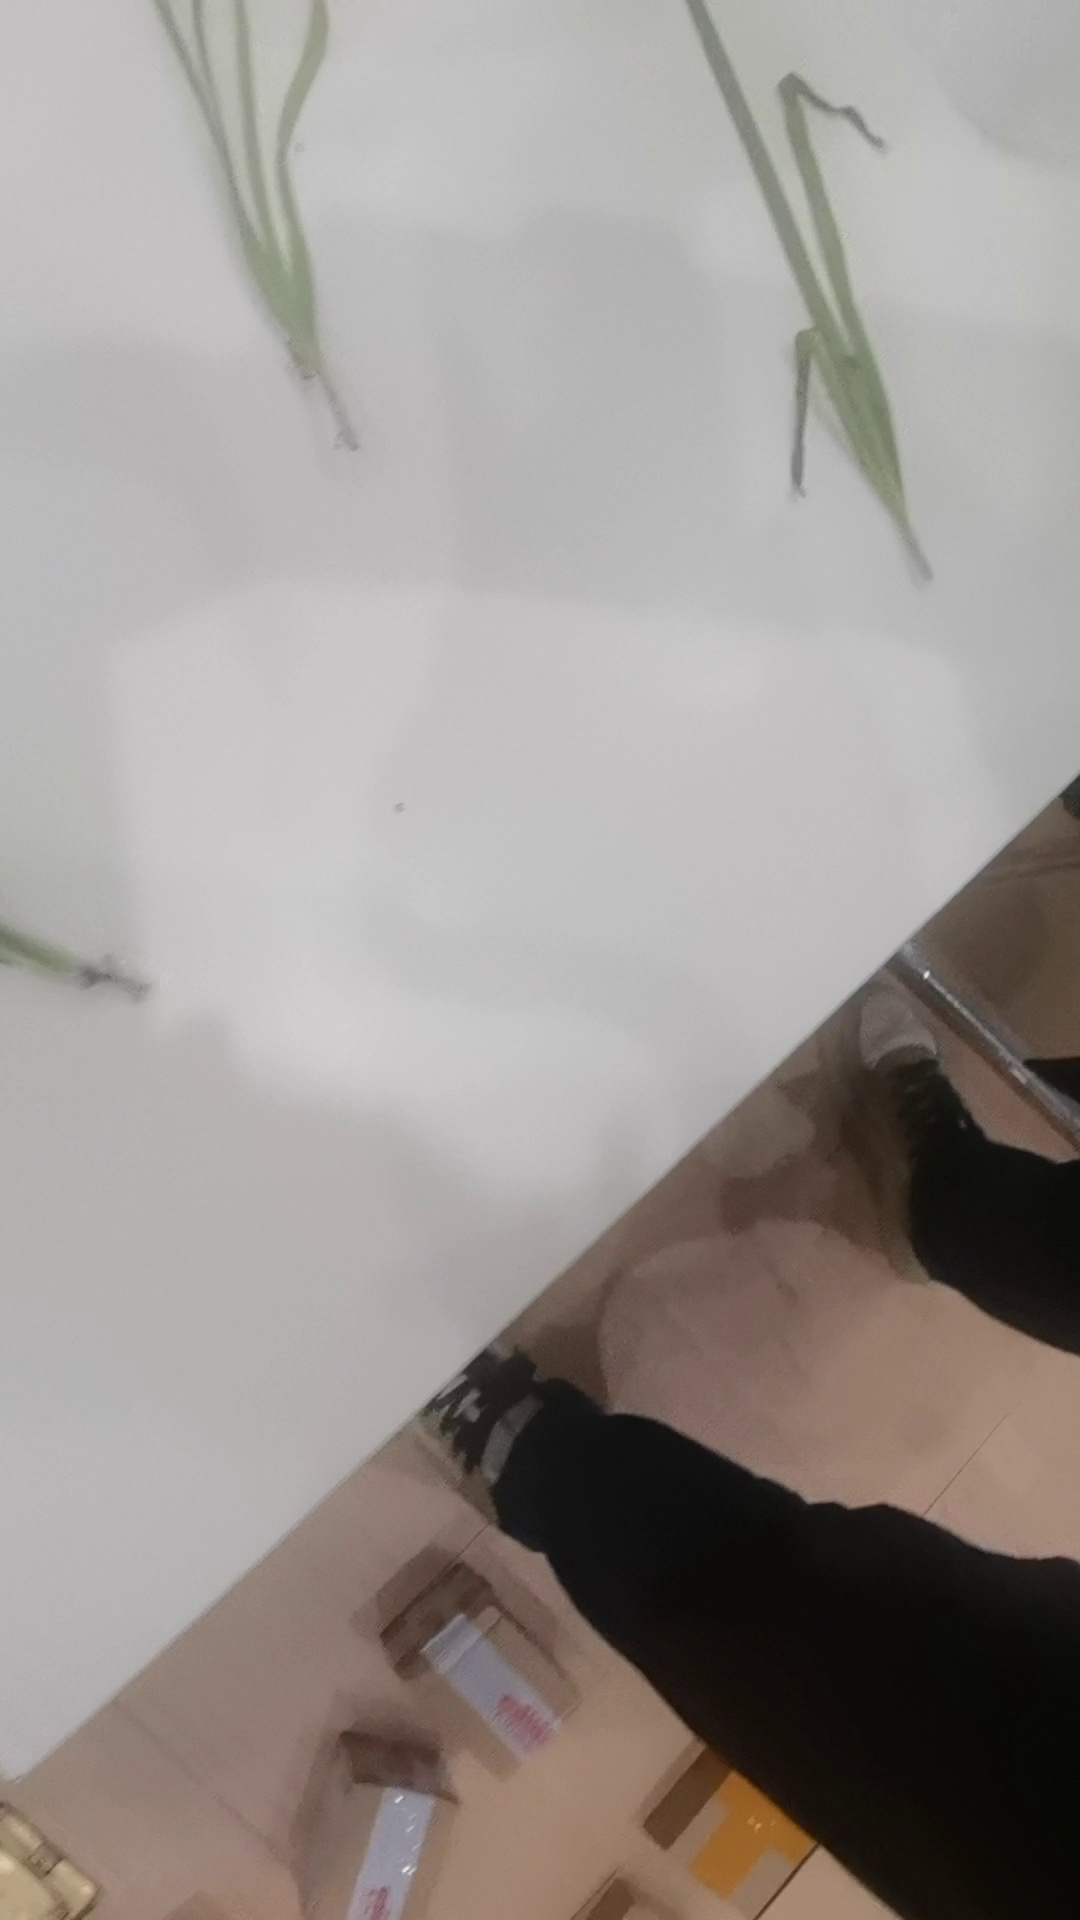chives: (604, 1, 943, 580), (142, 1, 355, 454)
